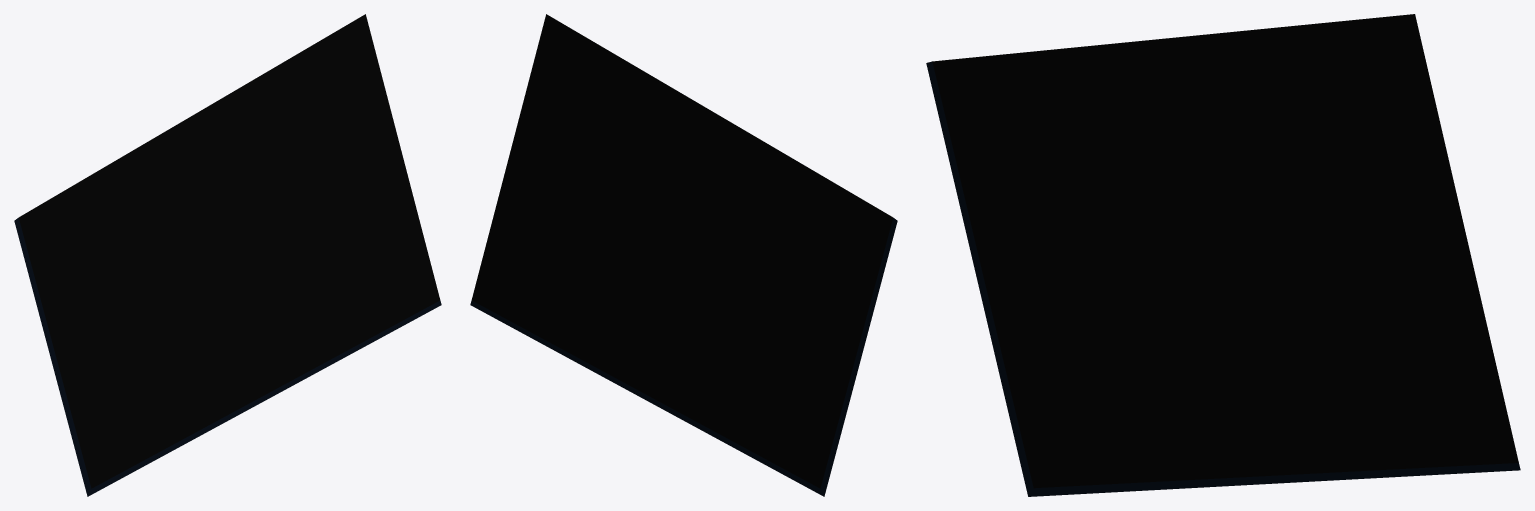
The model's file is basePhotosPicA.glb.
3 renders of one model, left to right at view 1: azimuth 30°, elevation 25°; view 2: azimuth 150°, elevation 25°; view 3: azimuth 330°, elevation 25°, orthographic. The views are drawn at different scales.
Parts seen in each view (by area): view 1: basePhotosPicA; view 2: basePhotosPicA; view 3: basePhotosPicA.
Part boxes in pixels (x1,y1,x2,y2): basePhotosPicA: (14,14,441,496); basePhotosPicA: (470,14,897,496); basePhotosPicA: (926,14,1520,496).
Size of the model in its own units: 0.5588 by 0.5186 by 0.
